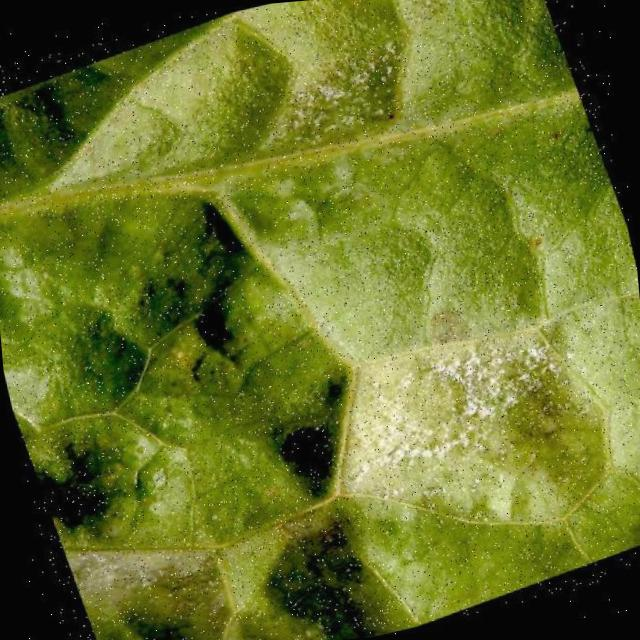Powdery_mildew_on_lettuce: (281, 270, 640, 583)
